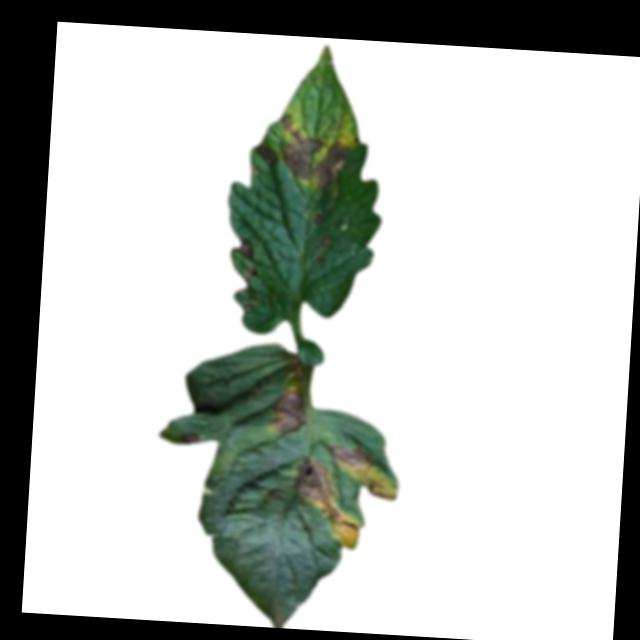Early_blight: (287, 456, 364, 553), (275, 112, 352, 193), (268, 389, 309, 437), (350, 469, 398, 502), (332, 447, 370, 472), (253, 142, 279, 169), (235, 237, 255, 261), (174, 432, 200, 447), (317, 233, 334, 250), (310, 211, 325, 226)
